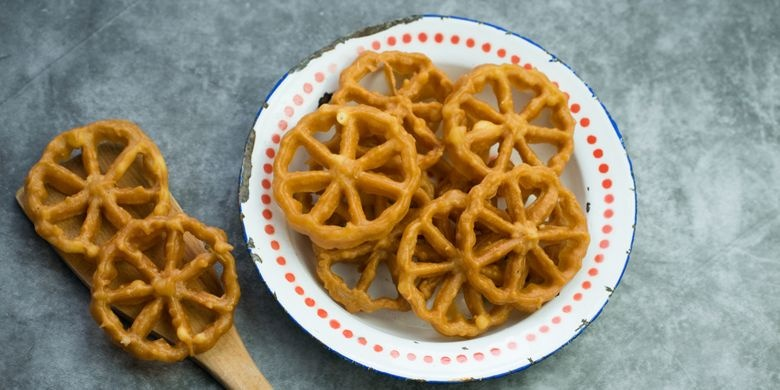kembang_goyang: (82, 209, 247, 370), (465, 160, 601, 307), (265, 108, 405, 245)
